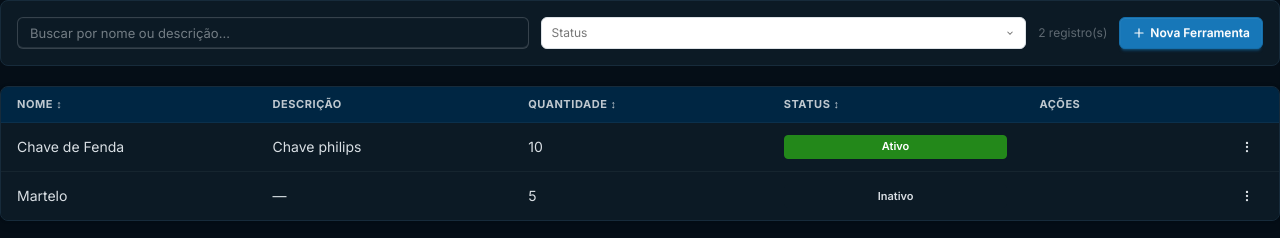
Test case: filters to active tools when Ativo option selected in the MultiSelect
The image size is (1280, 238).
Click the button "Status" at (569, 32), box [541,17,1026,49]
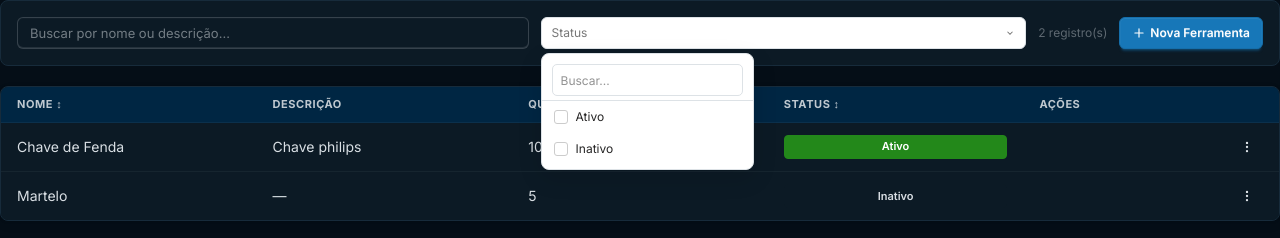
Click the text "Ativo" at (579, 116), box [554,109,604,124]
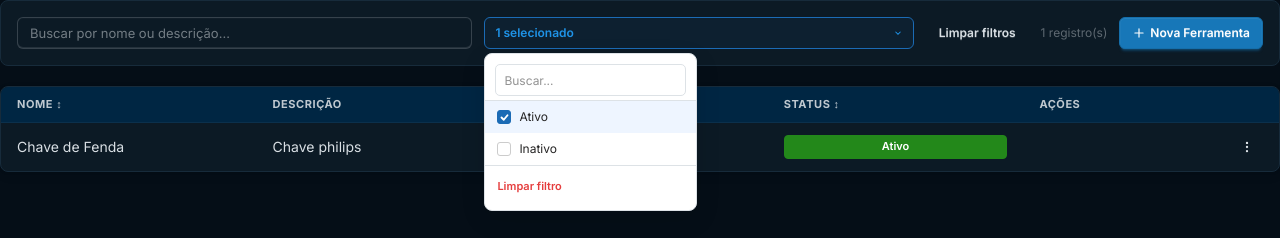
Expected: the text "Chave de Fenda" is shown, [1,122,257,171]
Now the button "Martelo" is gone
